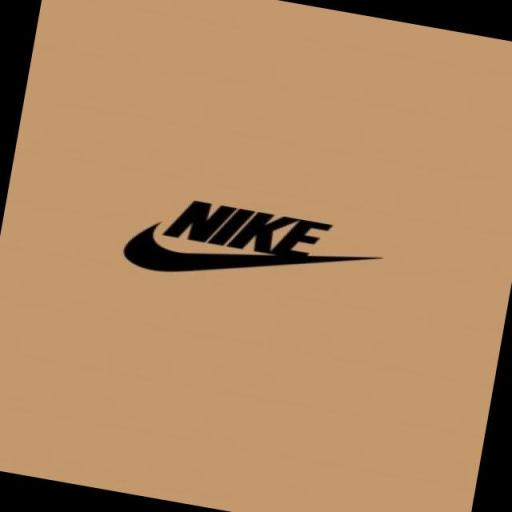Nike: (117, 222, 345, 303), (163, 194, 338, 268)
